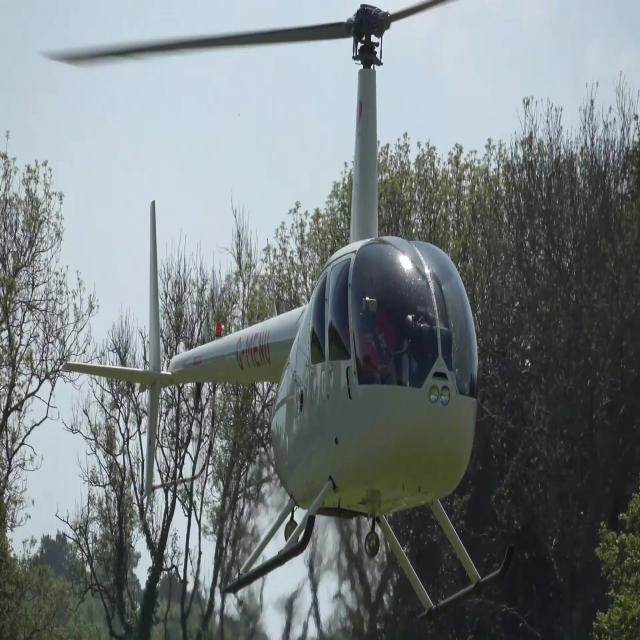CIV_HELO: (61, 1, 518, 628)
